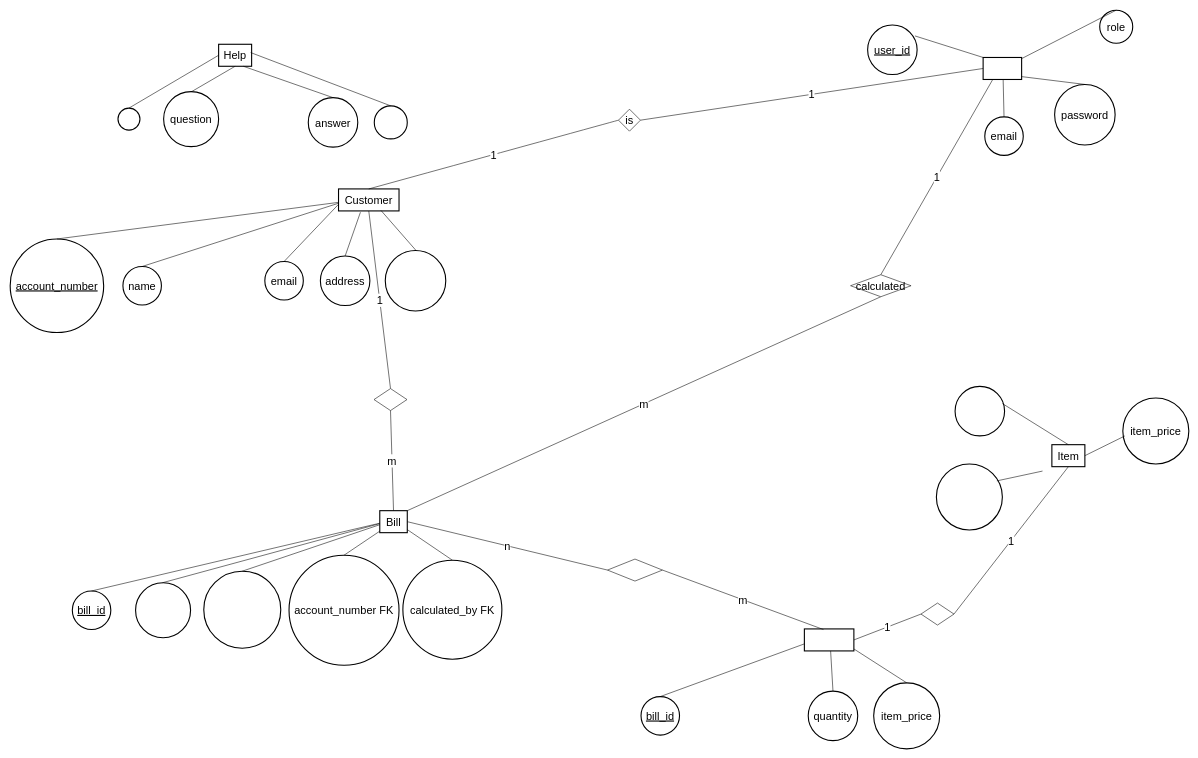
Some shapes in this 1198 by 758 pixel diagram are drawn without their labels. The shapes that lost their labels are listed below. From the top down, each one's centre as x and y in pixels, then its label:
At point 1002,68: "User".
At point 128,118: "id".
At point 390,122: "clue".
At point 415,280: "telephone".
At point 390,399: "has".
At point 979,411: "item_id".
At point 969,496: "item_name".
At point 634,570: "contains".
At point 163,610: "bill_date".
At point 242,609: "total_amount".
At point 937,614: "is_in".
At point 829,639: "Bill Item".
